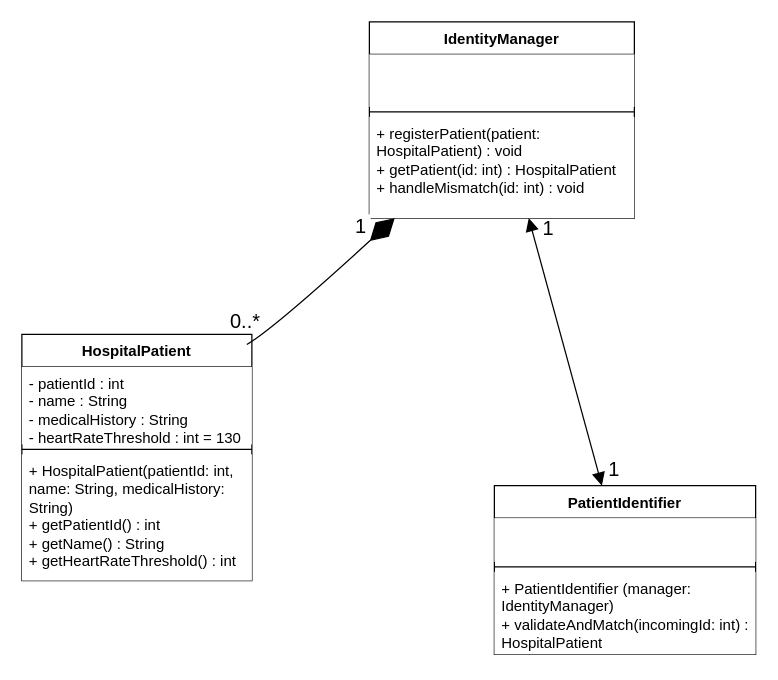
Some shapes in this 778 by 680 pixel diagram are drawn without their labels. The centre of each missing label's shape, as x and y in pixels:
"- hospitalDatabase : Map<Integer, HospitalPatient>" belongs at pixel 501 80.
"- identityManager : IdentityManager" belongs at pixel 624 539.
